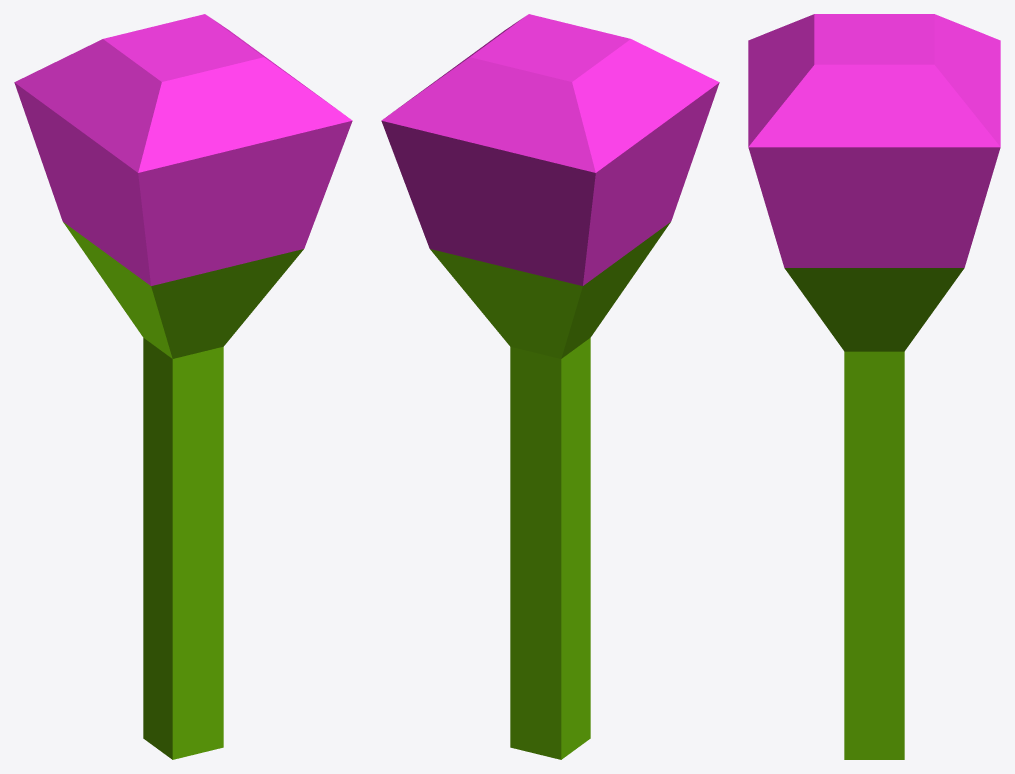
File: Sprout_M.fbx
The picture shows the model from 3 angles, left to right: view 1: azimuth 30°, elevation 25°; view 2: azimuth 150°, elevation 25°; view 3: azimuth 270°, elevation 25°; orthographic projection.
Parts seen in each view (by area): view 1: Flower_01_Bud; view 2: Flower_01_Bud; view 3: Flower_01_Bud.
Part boxes in pixels (<box>): Flower_01_Bud: <box>14,14,352,759</box>; Flower_01_Bud: <box>381,14,719,759</box>; Flower_01_Bud: <box>748,14,1000,759</box>.
Bounding box in the file's own units: 5.04 × 15.6 × 5.04.
1 material, 1 textured.
